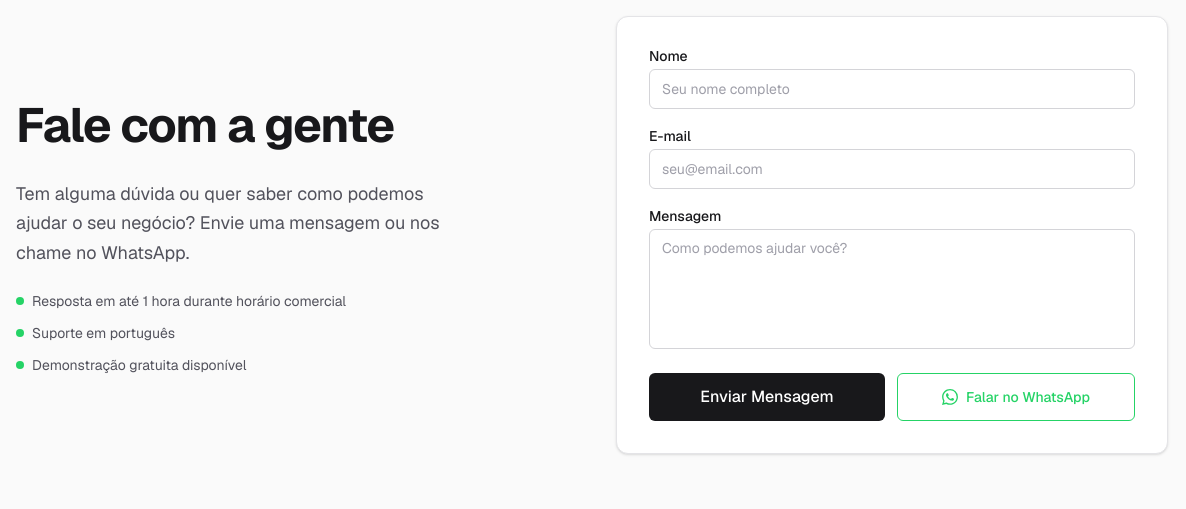
Test: Contact form › error state › shows network error message when fetch throws
Type "João" into the field labelled "Nome" at (892, 89), box [649,69,1135,109]
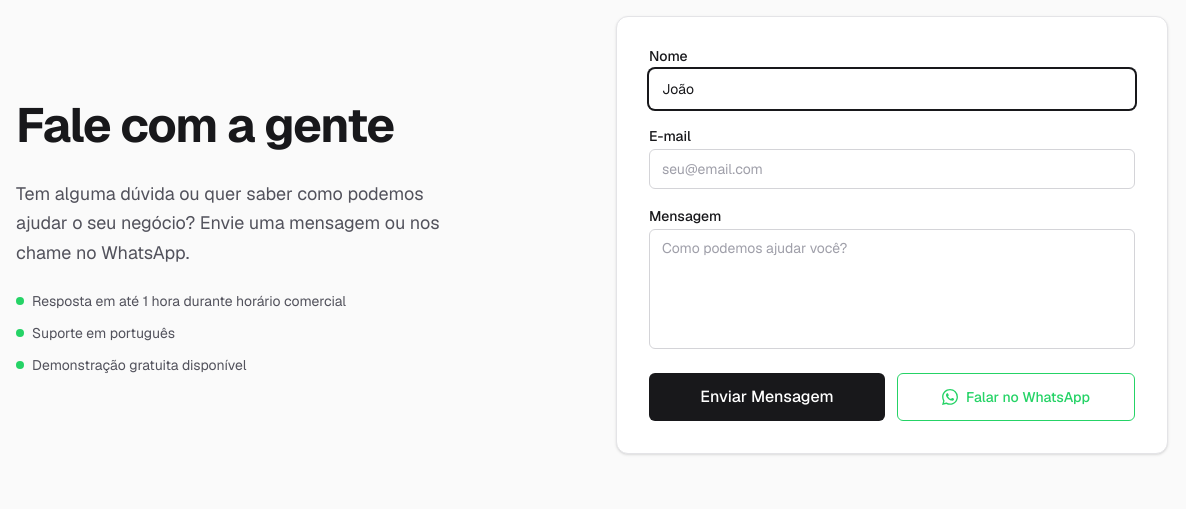
Type "joao@example.com" into the field labelled "E-mail" at (892, 169), box [649,149,1135,189]
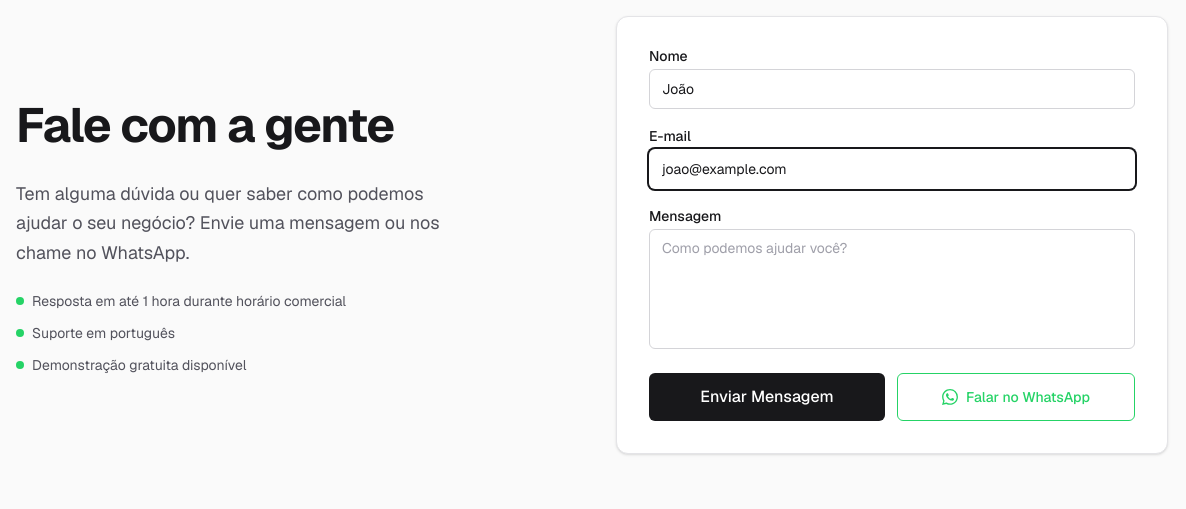
Type "Olá" into the text box labelled "Mensagem" at (892, 289), box [649,229,1135,349]
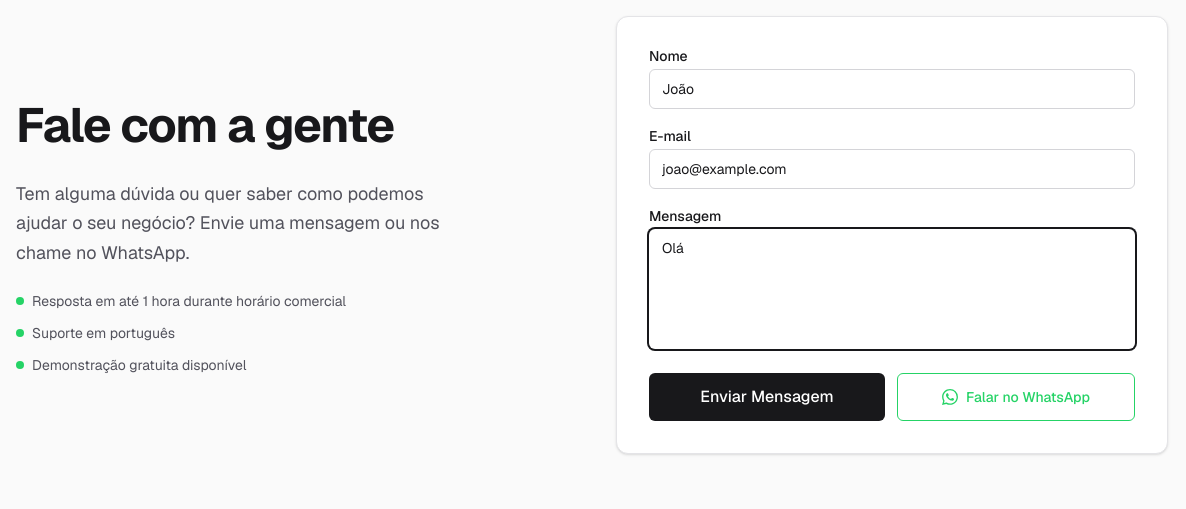
Click the button "Enviar Mensagem" at (767, 397), box [649,373,885,421]
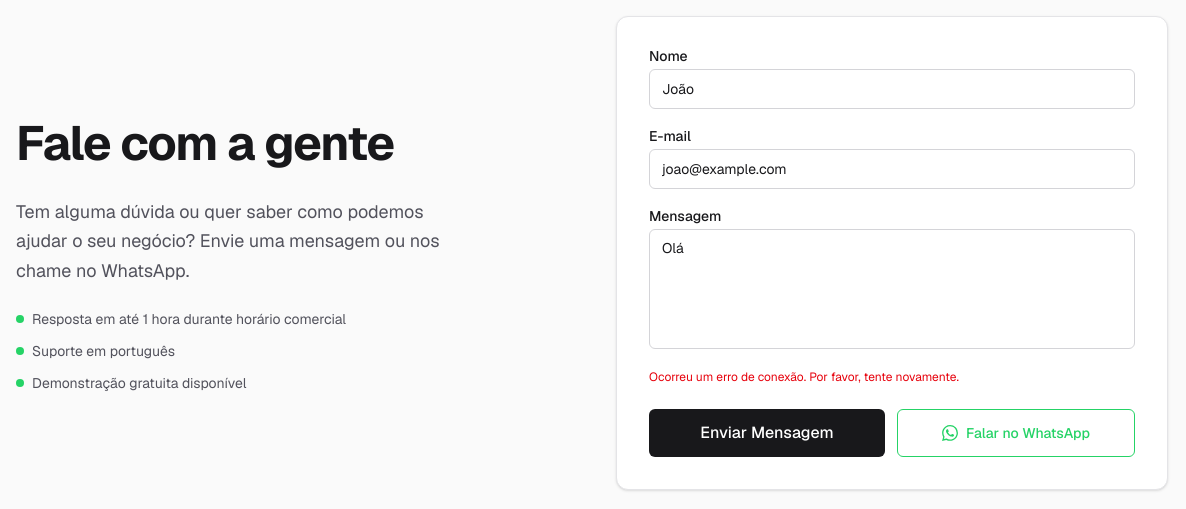
Result: the text "Ocorreu um erro de conexão. Por favor, tente novamente." is shown at [649,369,959,385]
